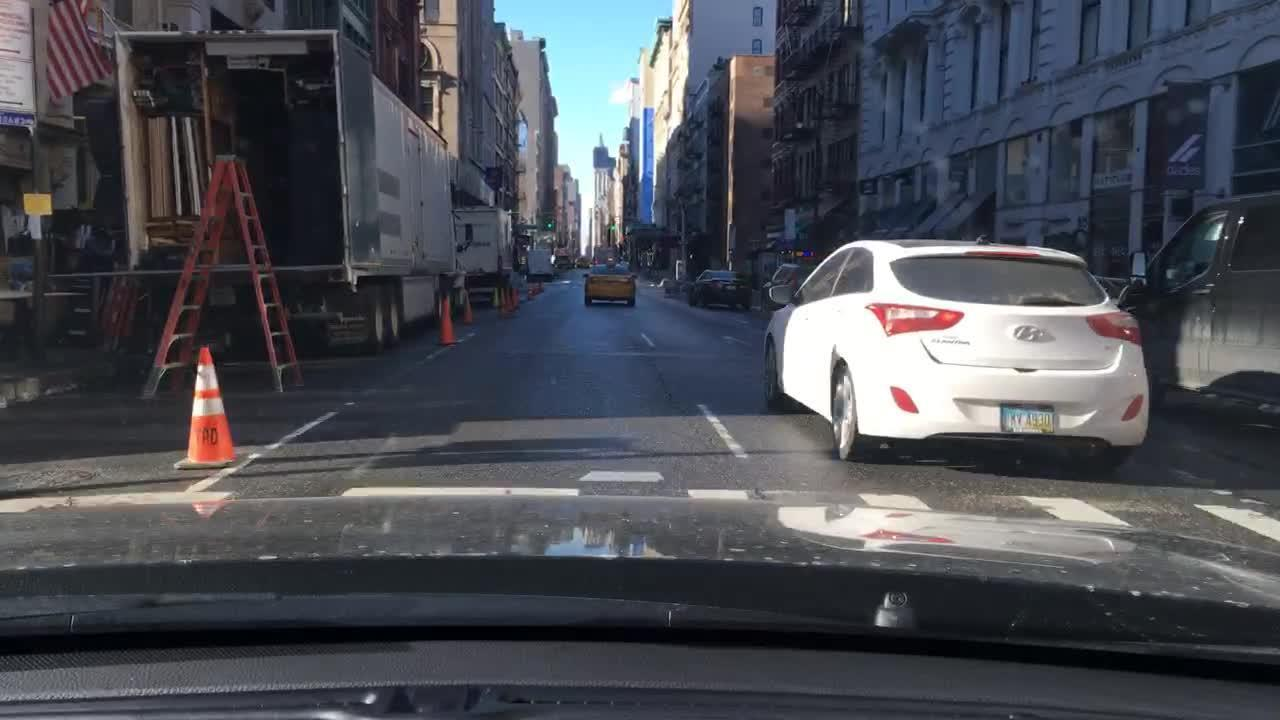Hyundai: (1010, 322, 1049, 346)
